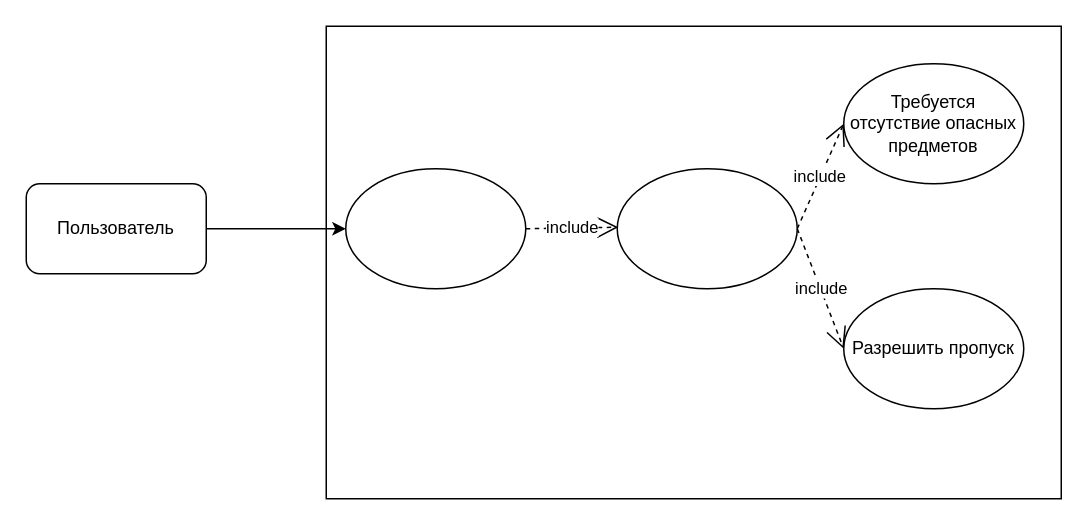
This 1088x525 diagram has some shape labels left out. The shapes that lost their labels are listed below. From the top down, each one's box as (x1, y1, x2, y2) in pixels, then its label:
(344, 167, 526, 289): Ставит багаж
(616, 167, 797, 289): Проверка багажа
